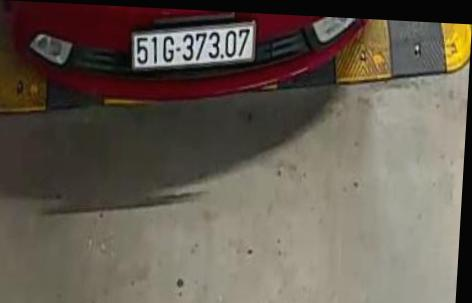License_Plate: (119, 14, 260, 79)
